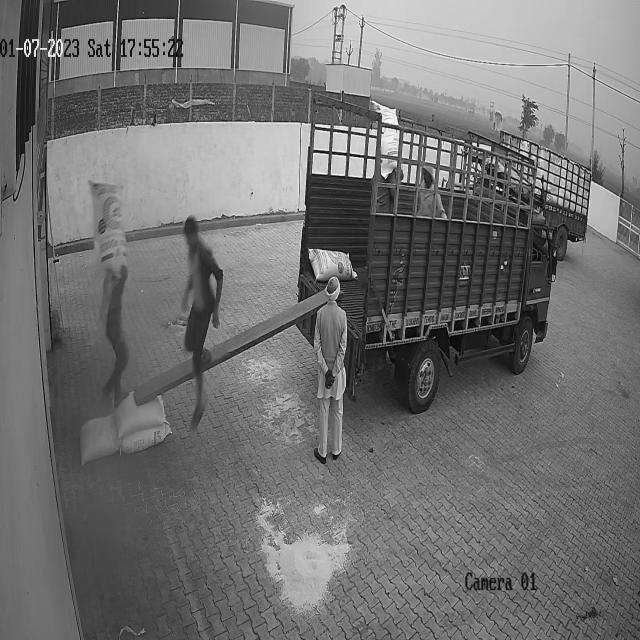sack: (88, 177, 128, 267), (116, 392, 164, 436), (79, 416, 118, 464), (307, 247, 358, 282), (121, 424, 171, 455)
